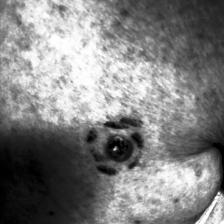Benign Marking or Mole: (103, 138, 132, 160)
